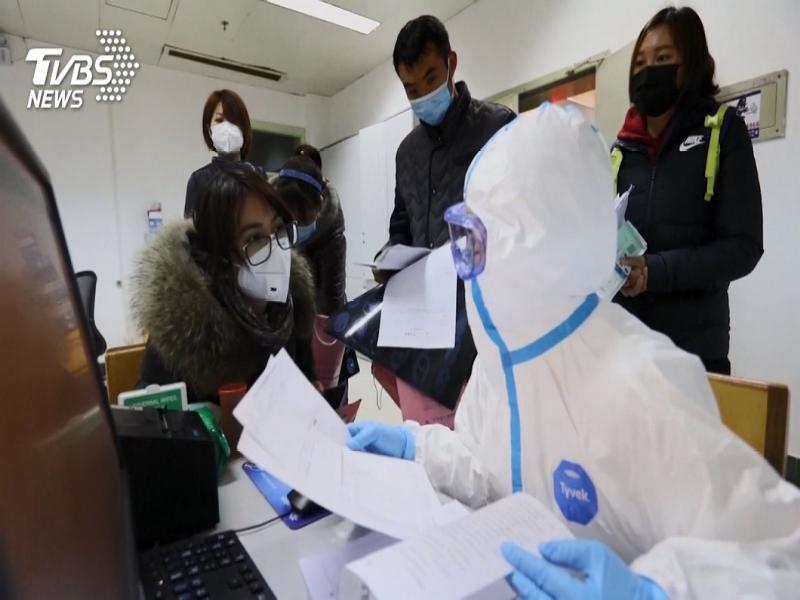good: (236, 213, 294, 310), (627, 39, 682, 121), (405, 59, 451, 128), (206, 111, 245, 158)
